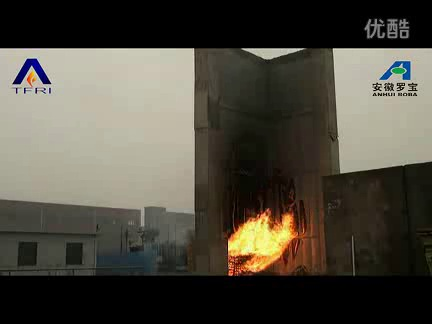fire: (225, 205, 297, 277)
